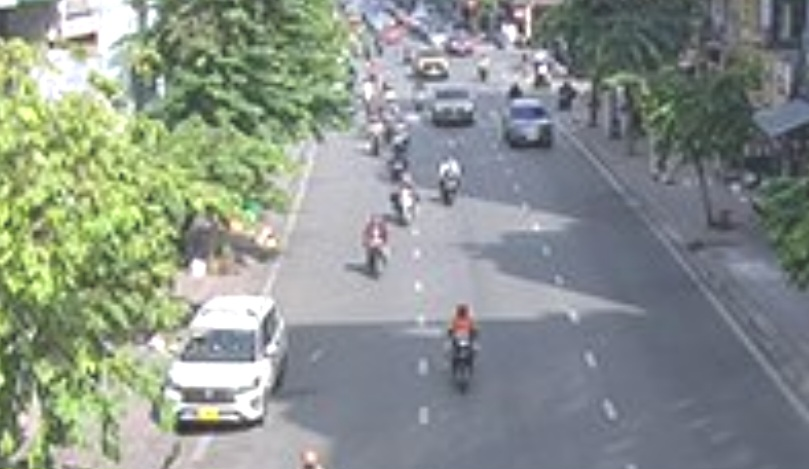car: (164, 292, 285, 429), (500, 100, 560, 150), (427, 86, 480, 127)
